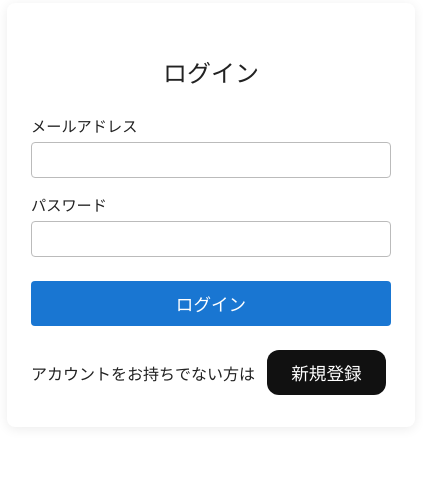
LoginRegister › 新規登録画面に切り替わる
What coordinates should you click on to do the following:
click the button "新規登録"
I would click on:
 (326, 372)
Its box is 267,350 -> 386,395.
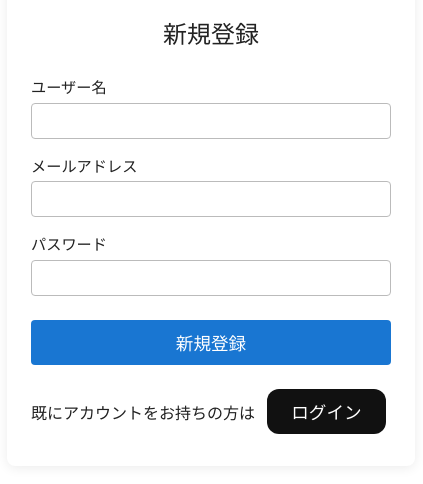
Now the heading "新規登録" is shown, box 163,17 -> 259,50
Now the field labelled "ユーザー名" is shown, box 31,102 -> 391,138
Now the button "新規登録" is shown, box 31,320 -> 391,365
